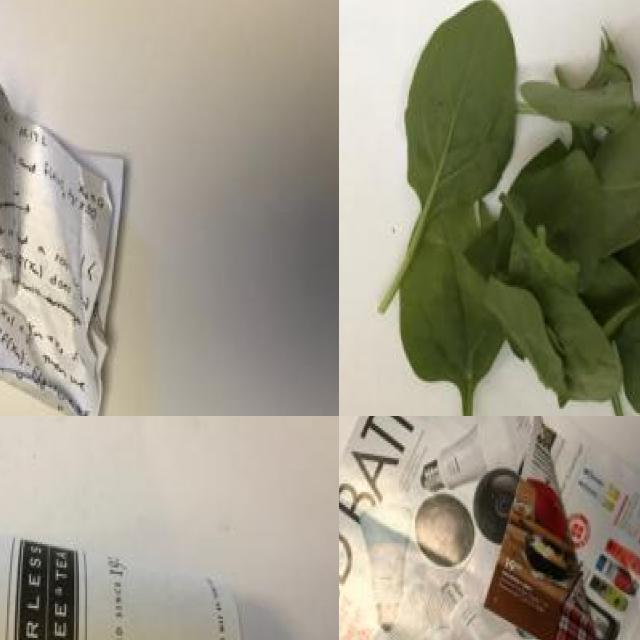compost: (379, 12, 640, 416)
paper: (339, 416, 640, 640), (0, 68, 139, 416)
trash: (0, 488, 257, 640)
